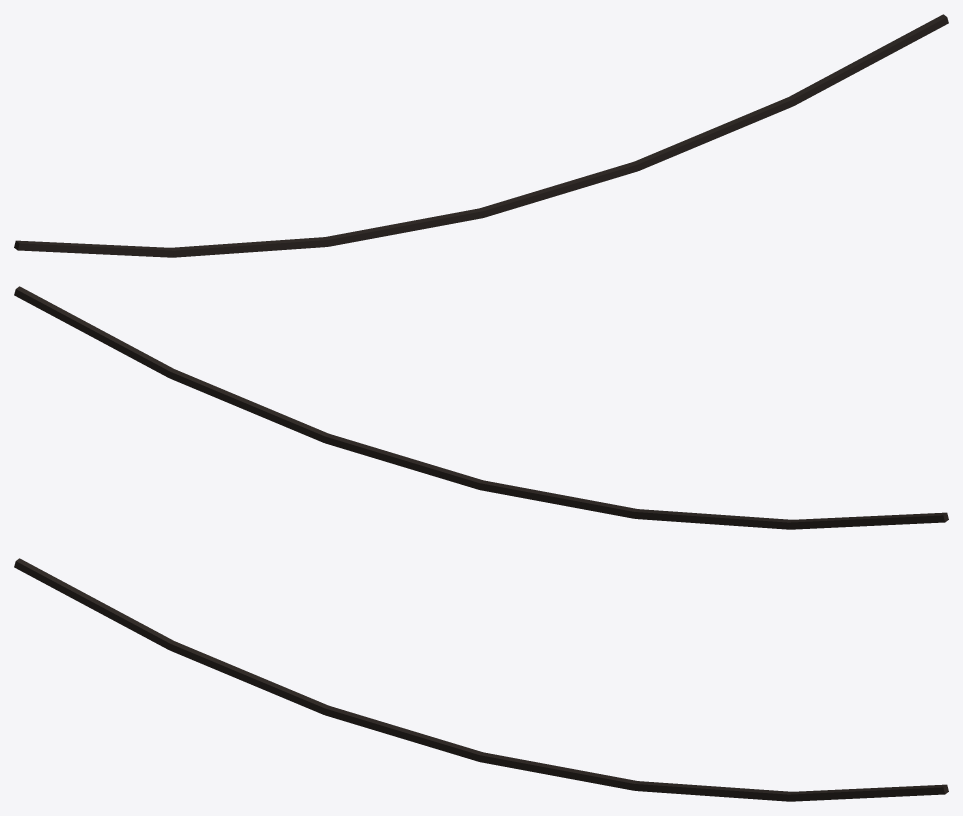
The model's file is string_wire.glb.
The picture shows the model from 3 angles, top to bottom: view 1: azimuth 30°, elevation 25°; view 2: azimuth 150°, elevation 25°; view 3: azimuth 330°, elevation 25°; orthographic projection.
Visible parts, largest first — view 1: string_wire; view 2: string_wire; view 3: string_wire.
Part boxes in pixels (x1,y1,x2,y2): string_wire: [14, 14, 948, 257]; string_wire: [14, 286, 948, 529]; string_wire: [14, 558, 948, 801].
Size of the model in its own units: 4.21 by 0.3794 by 0.03.
1 material, 1 textured.
